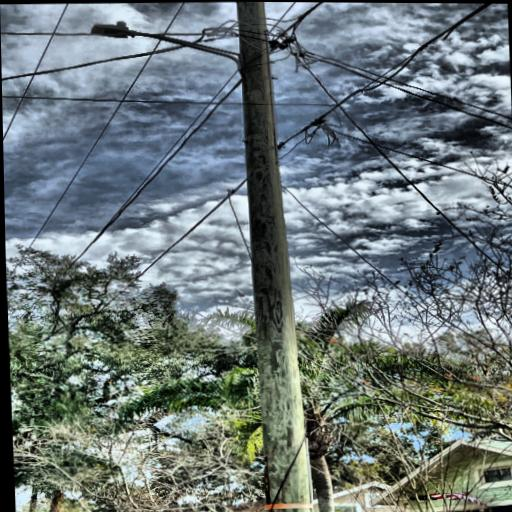pole: (219, 2, 339, 512)
street light: (87, 19, 247, 76)
